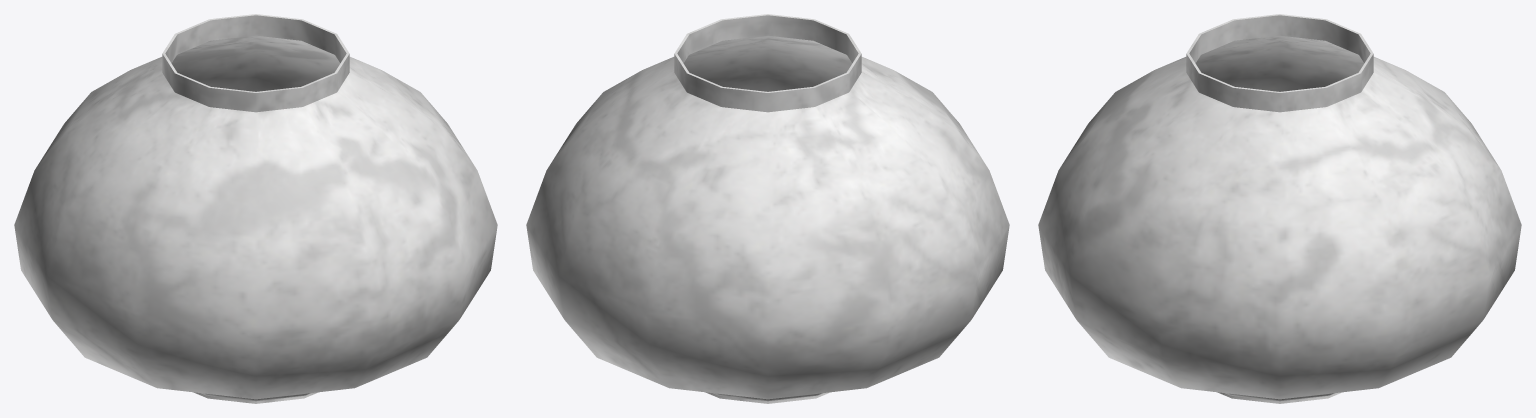
File: Vase__2.fbx
The picture shows the model from 3 angles, left to right: view 1: azimuth 30°, elevation 25°; view 2: azimuth 150°, elevation 25°; view 3: azimuth 270°, elevation 25°; orthographic projection.
Parts seen in each view (by area): view 1: Vase__2; view 2: Vase__2; view 3: Vase__2.
Part boxes in pixels (bbox=[...]): Vase__2: bbox=[14, 14, 497, 403]; Vase__2: bbox=[526, 14, 1009, 403]; Vase__2: bbox=[1038, 14, 1521, 403].
Size of the model in its own units: 0.1677 by 0.1192 by 0.1677.
